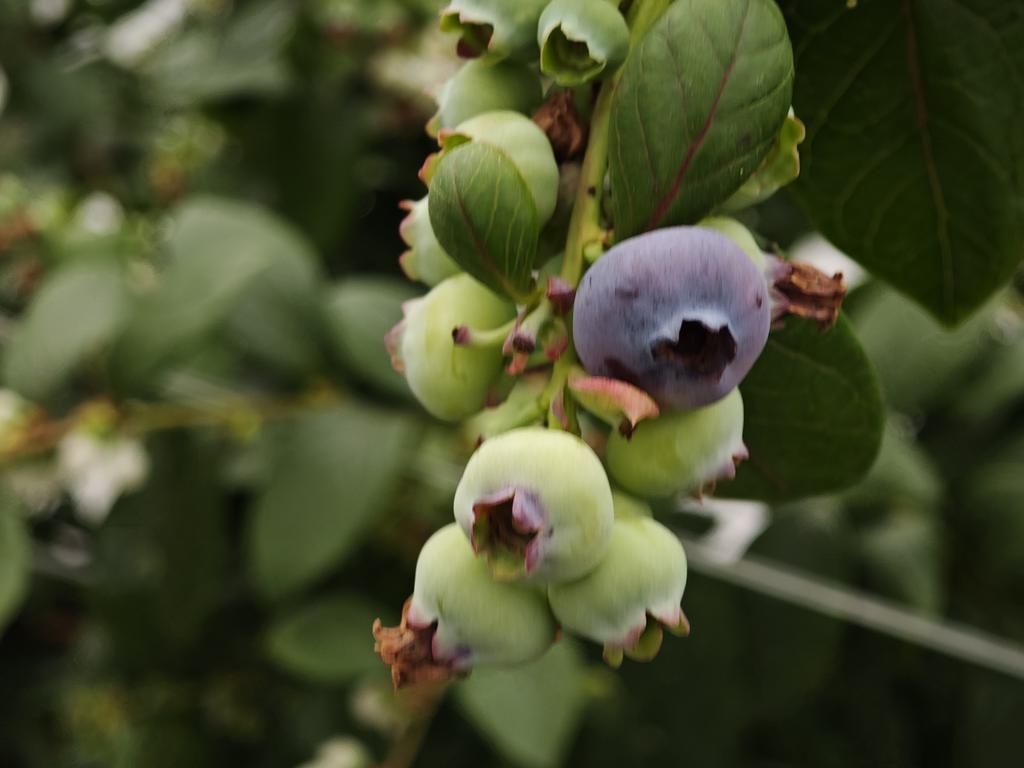RipeBlueBerry: (567, 223, 775, 411)
UnripeBlueBerry: (450, 425, 618, 587)
